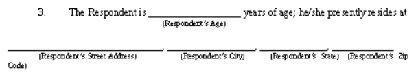textline: (5, 38, 164, 52), (165, 39, 257, 52), (147, 7, 242, 19), (259, 39, 329, 52), (330, 39, 394, 52)
